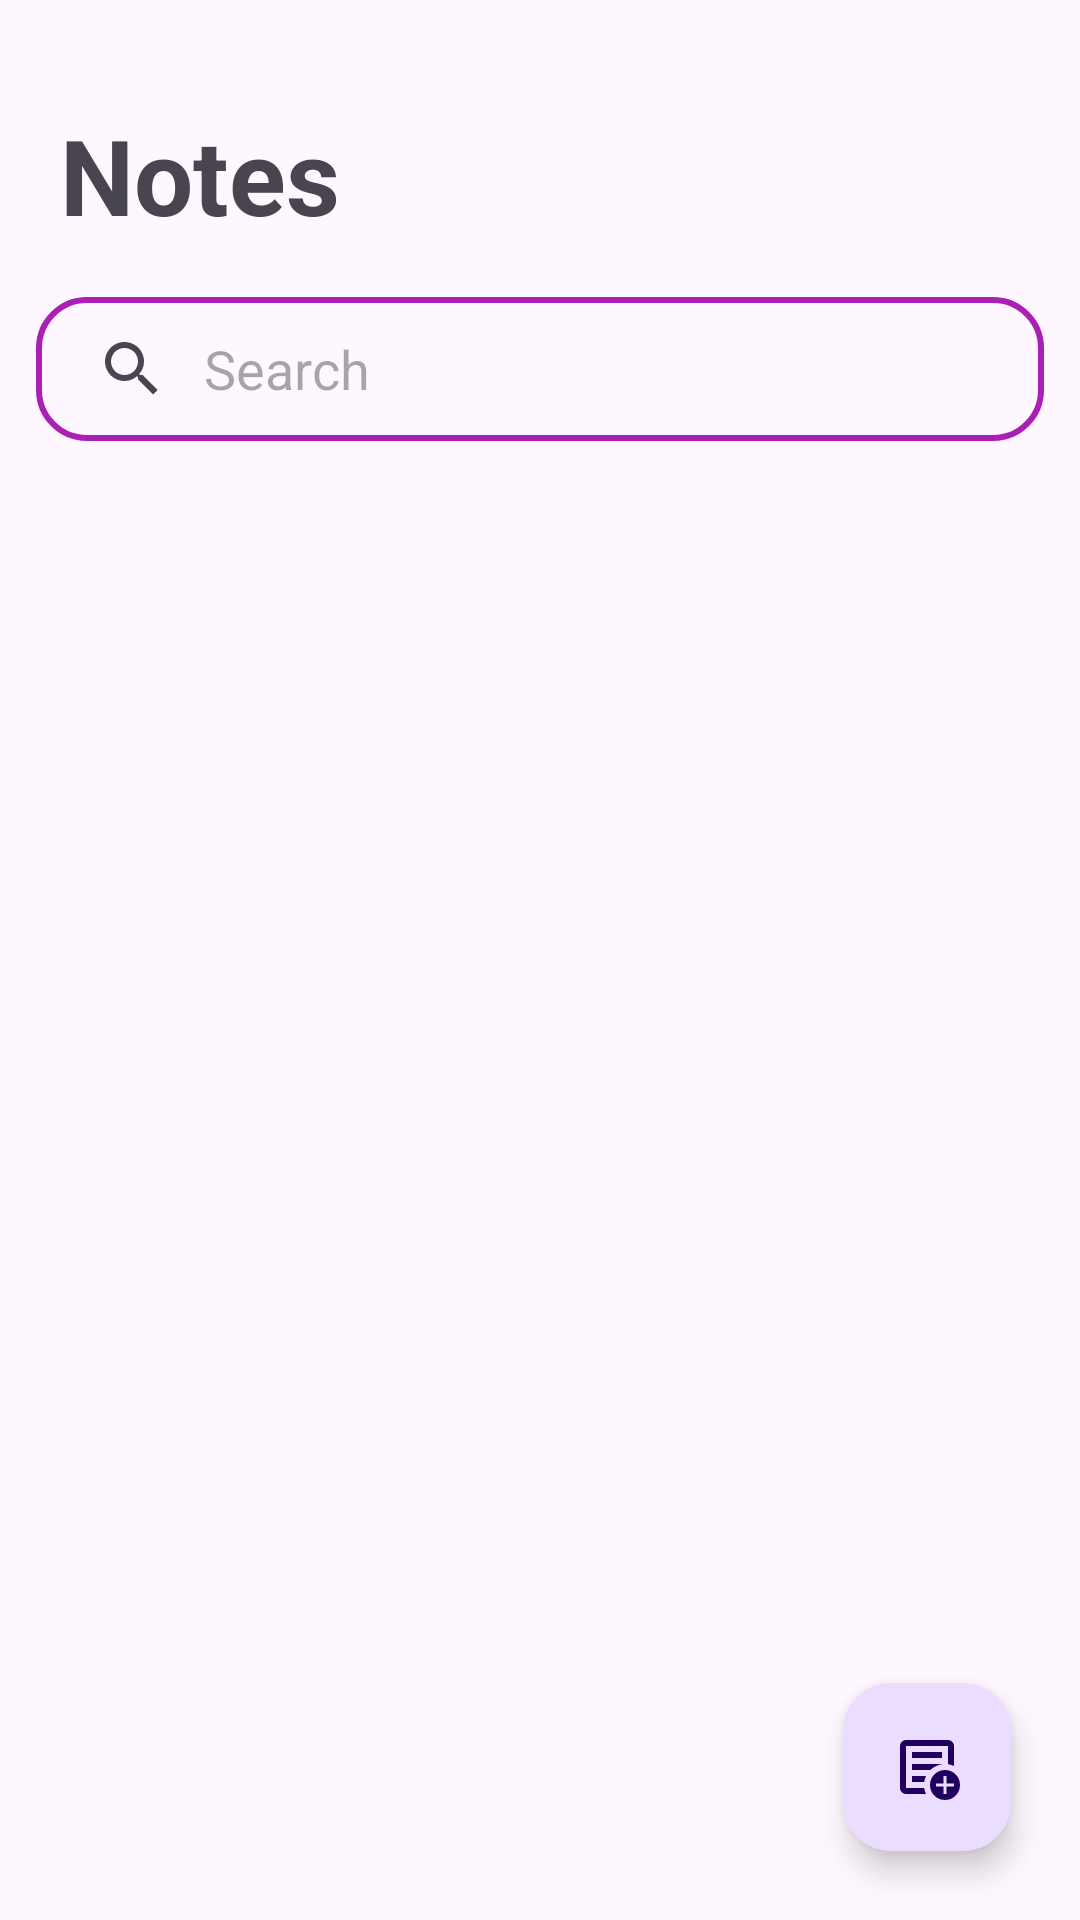

Icon bounding boxes for this 1080 × 1920 phone screenshot, format box=[x1, y1, x2, y2]:
add note: box=[843, 1683, 1011, 1851]
